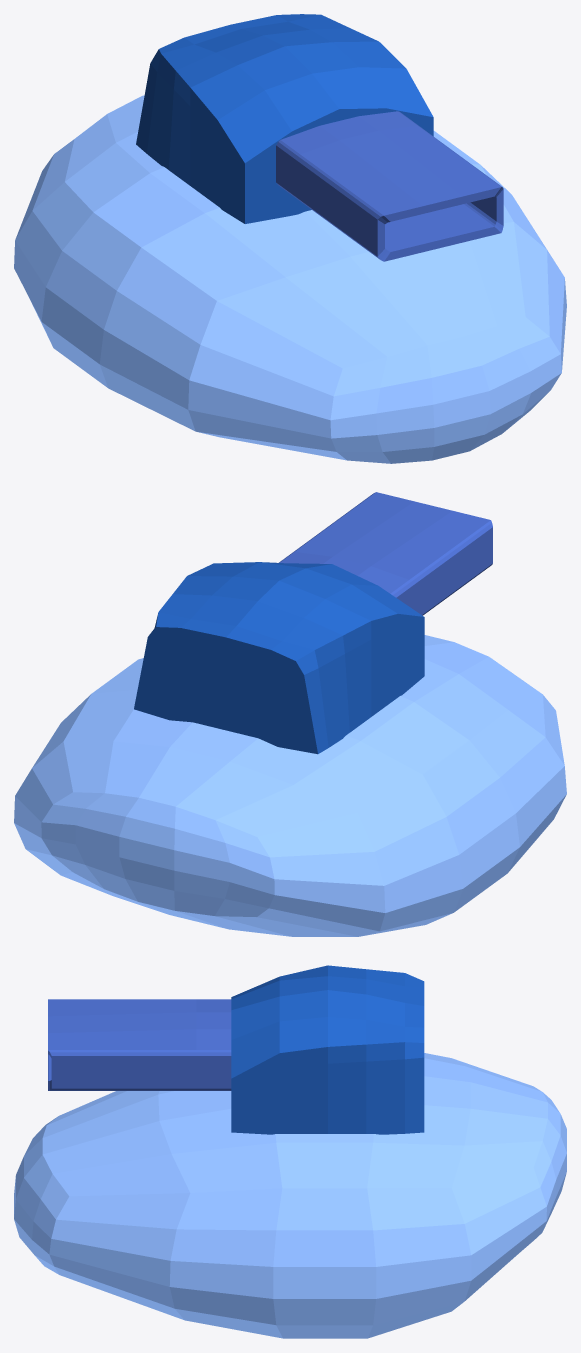
Rendered from PolyTank_static.fbx.
The picture shows the model from 3 angles, top to bottom: view 1: azimuth 30°, elevation 25°; view 2: azimuth 150°, elevation 25°; view 3: azimuth 270°, elevation 25°; orthographic projection. The views are drawn at different scales.
Parts seen in each view (by area): view 1: Tank, TankBody, TurretBody; view 2: Tank, TankBody, TurretBody; view 3: Tank, TankBody, TurretBody.
Part boxes in pixels (x1,y1,x2,y2): Tank: [14, 95, 566, 463]; TankBody: [136, 14, 433, 223]; TurretBody: [276, 111, 503, 261]; Tank: [14, 635, 566, 936]; TankBody: [134, 562, 424, 754]; TurretBody: [279, 492, 492, 615]; Tank: [14, 1053, 566, 1338]; TankBody: [231, 965, 424, 1134]; TurretBody: [48, 999, 231, 1090].
Size of the model in its own units: 458 by 573 by 320.
